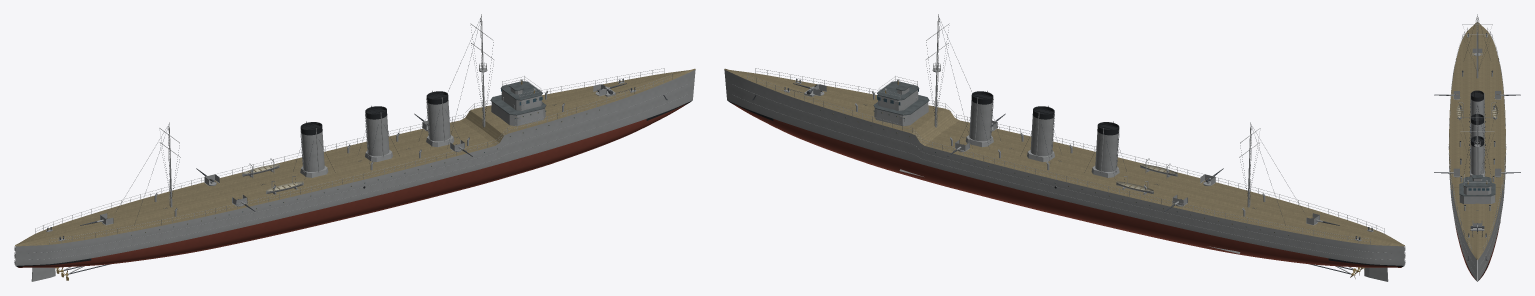
Rendered from quarto.glb.
3 views of the same model, side by side, from view 1: azimuth 30°, elevation 25°; view 2: azimuth 150°, elevation 25°; view 3: azimuth 270°, elevation 25° (orthographic). The views are drawn at different scales.
Visible parts, largest first — view 1: Quarto / Bixio scouts; view 2: Quarto / Bixio scouts; view 3: Quarto / Bixio scouts.
Part boxes in pixels (box(x1,y1,x2,y2)): Quarto / Bixio scouts: box(14, 14, 695, 281); Quarto / Bixio scouts: box(724, 14, 1405, 281); Quarto / Bixio scouts: box(1434, 14, 1520, 281).
Size of the model in its own units: 132 by 29.53 by 19.64.
9 materials, 8 textured.
